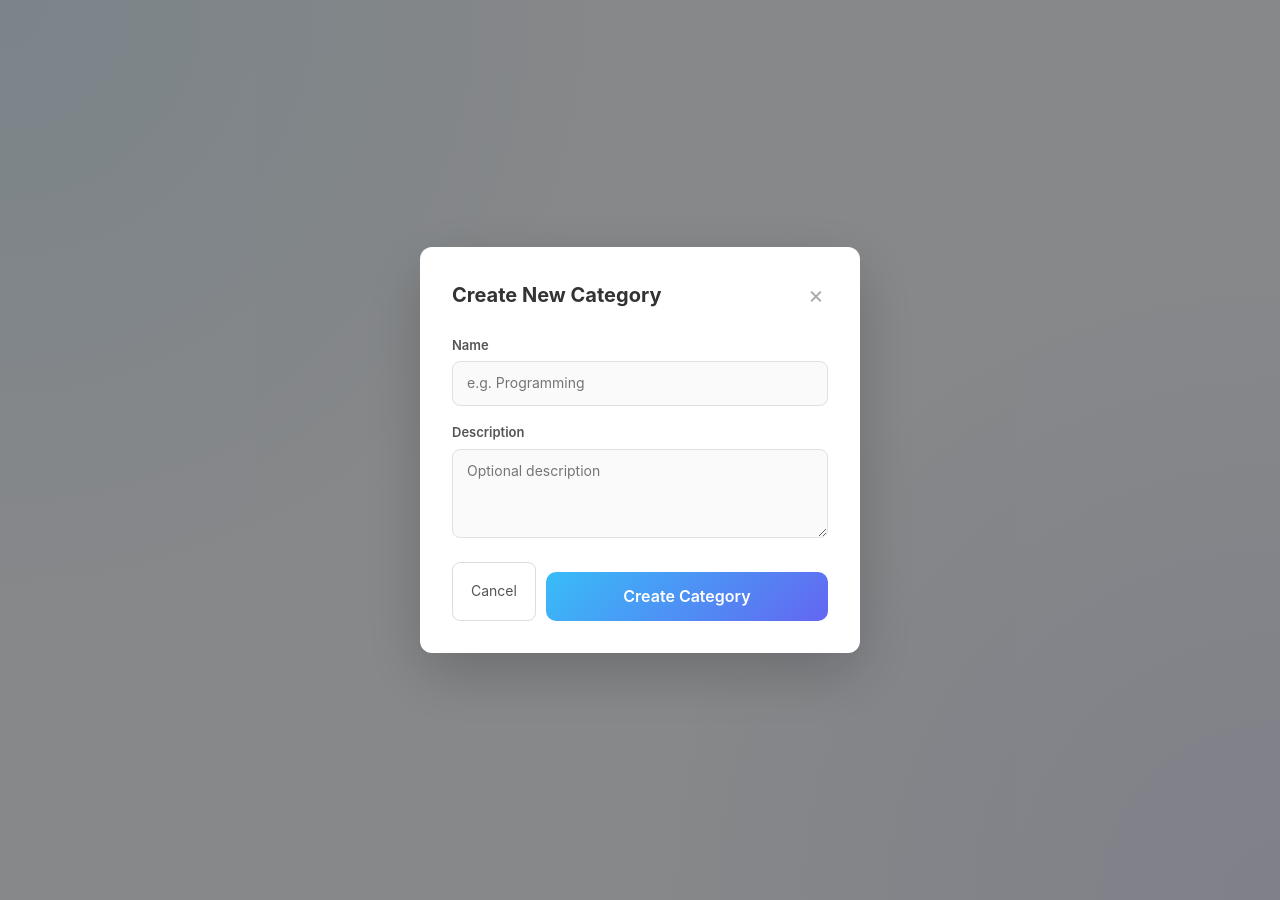
Test: CreateCategoryModal › submit with invalid fields › shows the name error on submit when the form is empty
This screenshot has width=1280, height=900.
Click the button "Create Category": coordinates (687, 597) [546, 572, 828, 621]
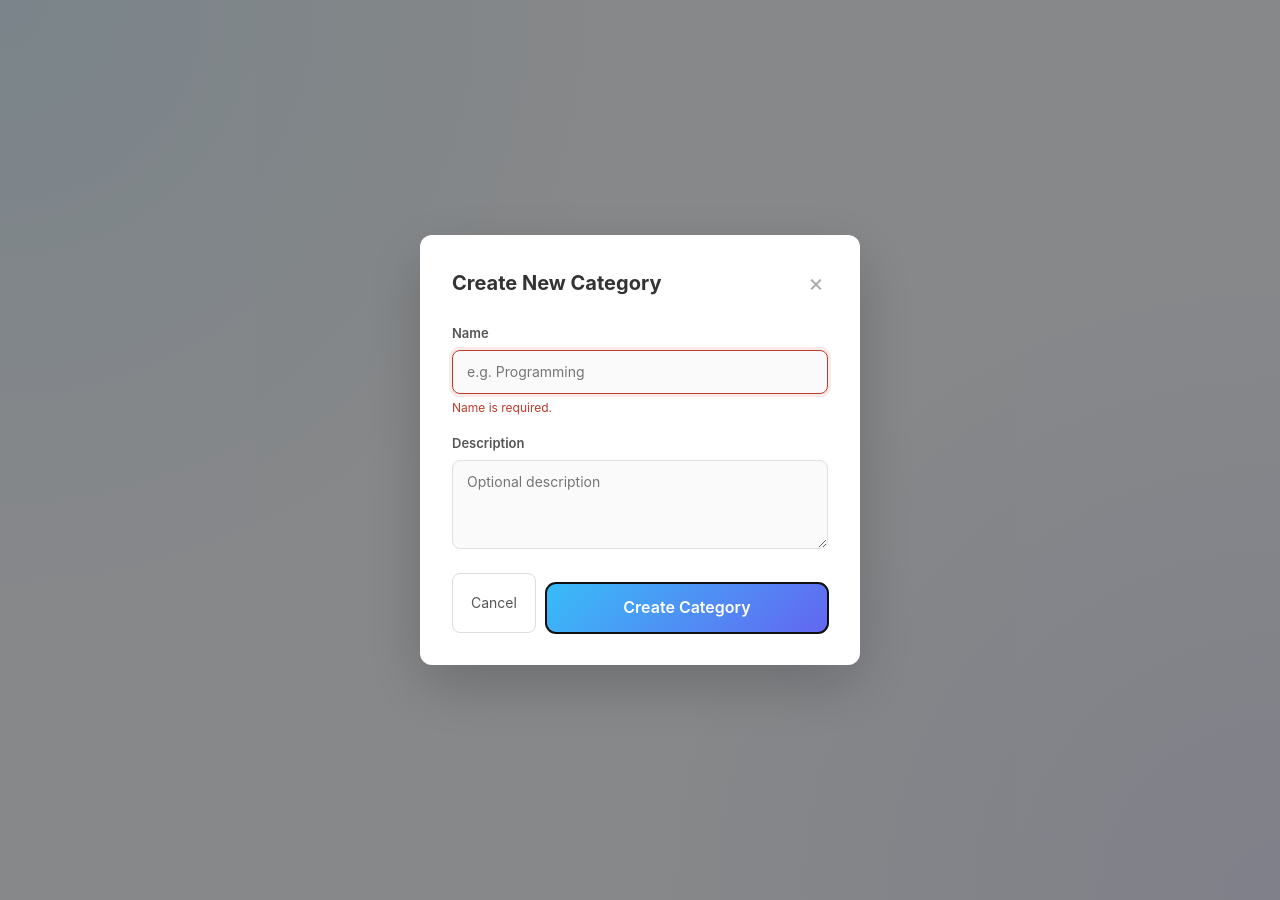
expect the text "Name is required." is shown: met, box [452, 400, 552, 415]
